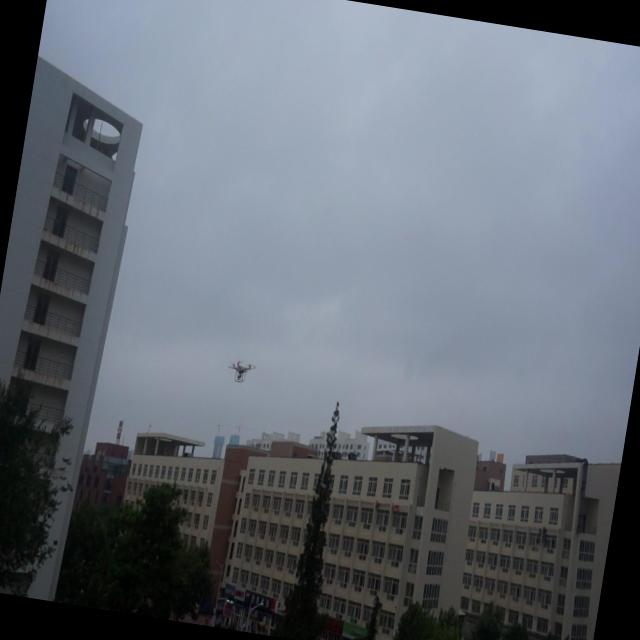drone: (224, 357, 258, 388)
